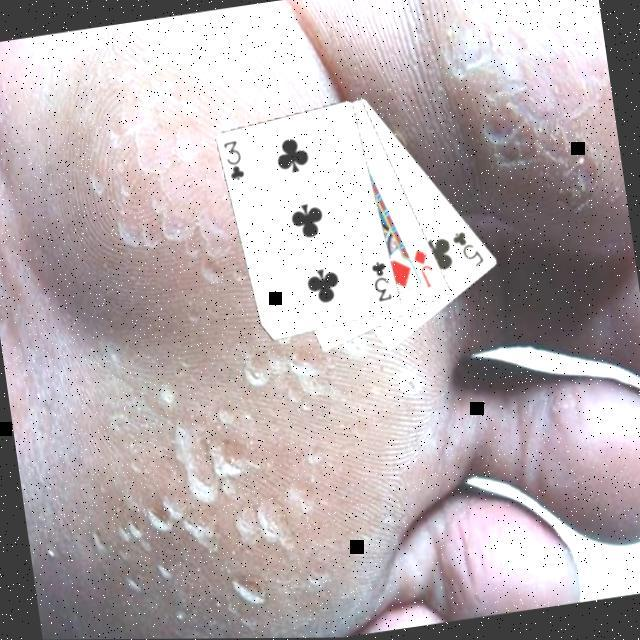3C: (368, 256, 397, 306), (220, 136, 249, 185)
5C: (448, 225, 489, 272)
JD: (410, 244, 440, 292)
